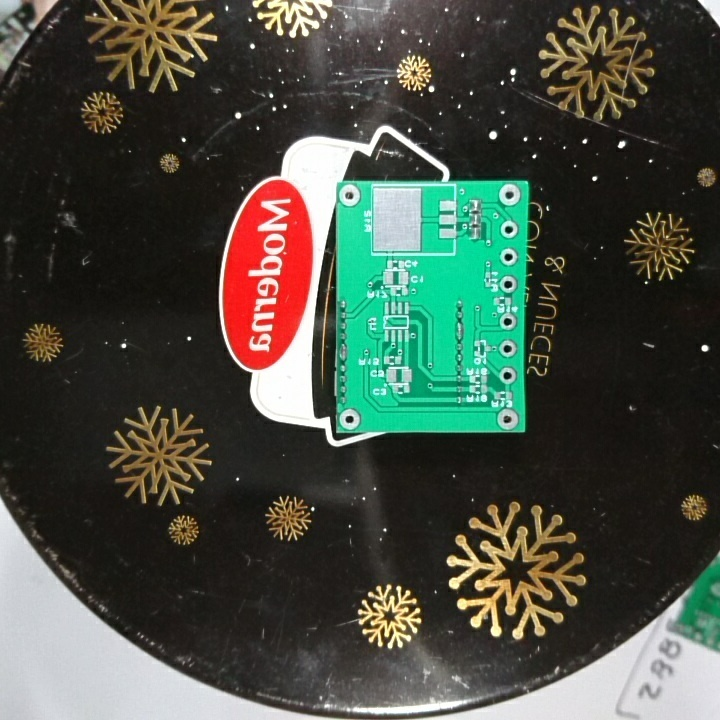F: (337, 182, 363, 210), (497, 183, 523, 209), (338, 407, 363, 430), (495, 407, 520, 429), (497, 275, 520, 296), (497, 312, 520, 333), (499, 218, 519, 240), (497, 246, 519, 266), (497, 339, 518, 359), (497, 367, 519, 386)
P: (337, 340, 350, 362), (453, 320, 467, 340)
